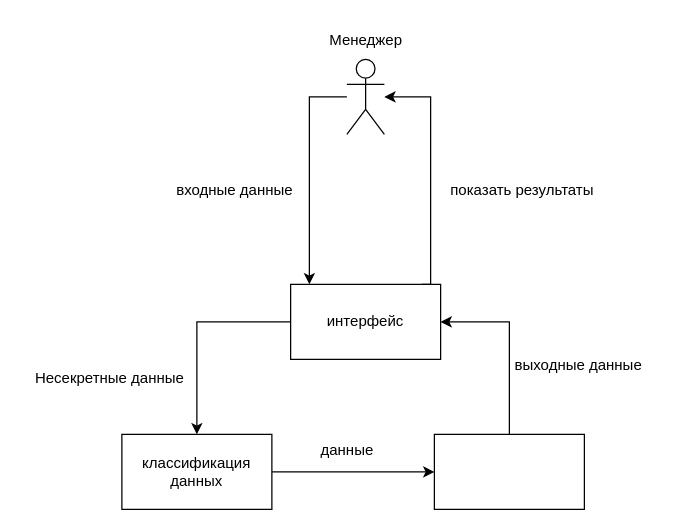
Image size: 680x531. Some labels were removed from this diagram. The shapes that lost their labels are listed below. From the top down, each one's box as (x1, y1, x2, y2) in pixels, then its label:
(346, 58, 384, 134): Actor
(433, 433, 584, 509): обработка данных
